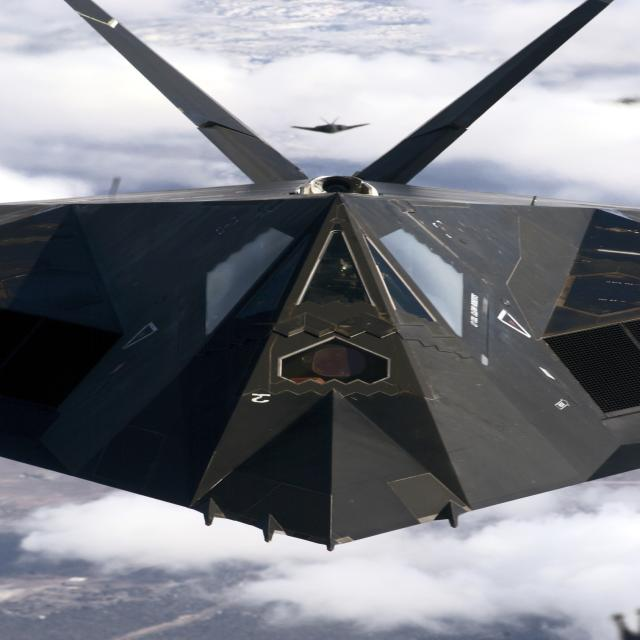MIL_Plane: (0, 0, 640, 551), (290, 116, 370, 134)
